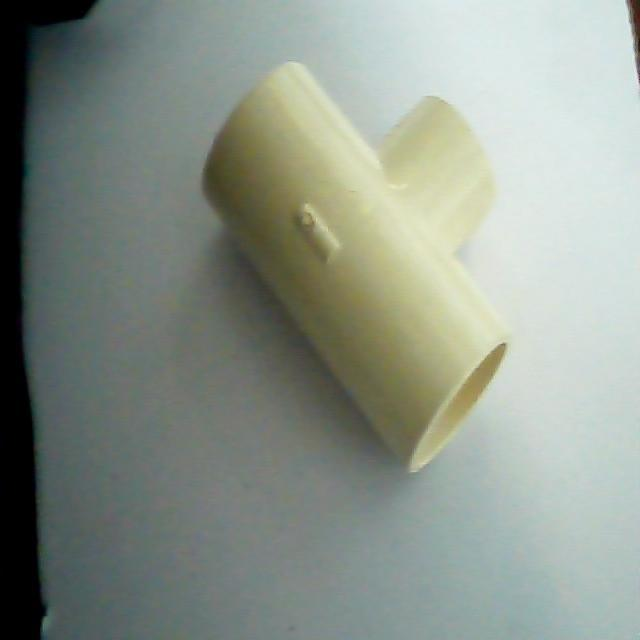T Joint: (200, 61, 513, 476)
